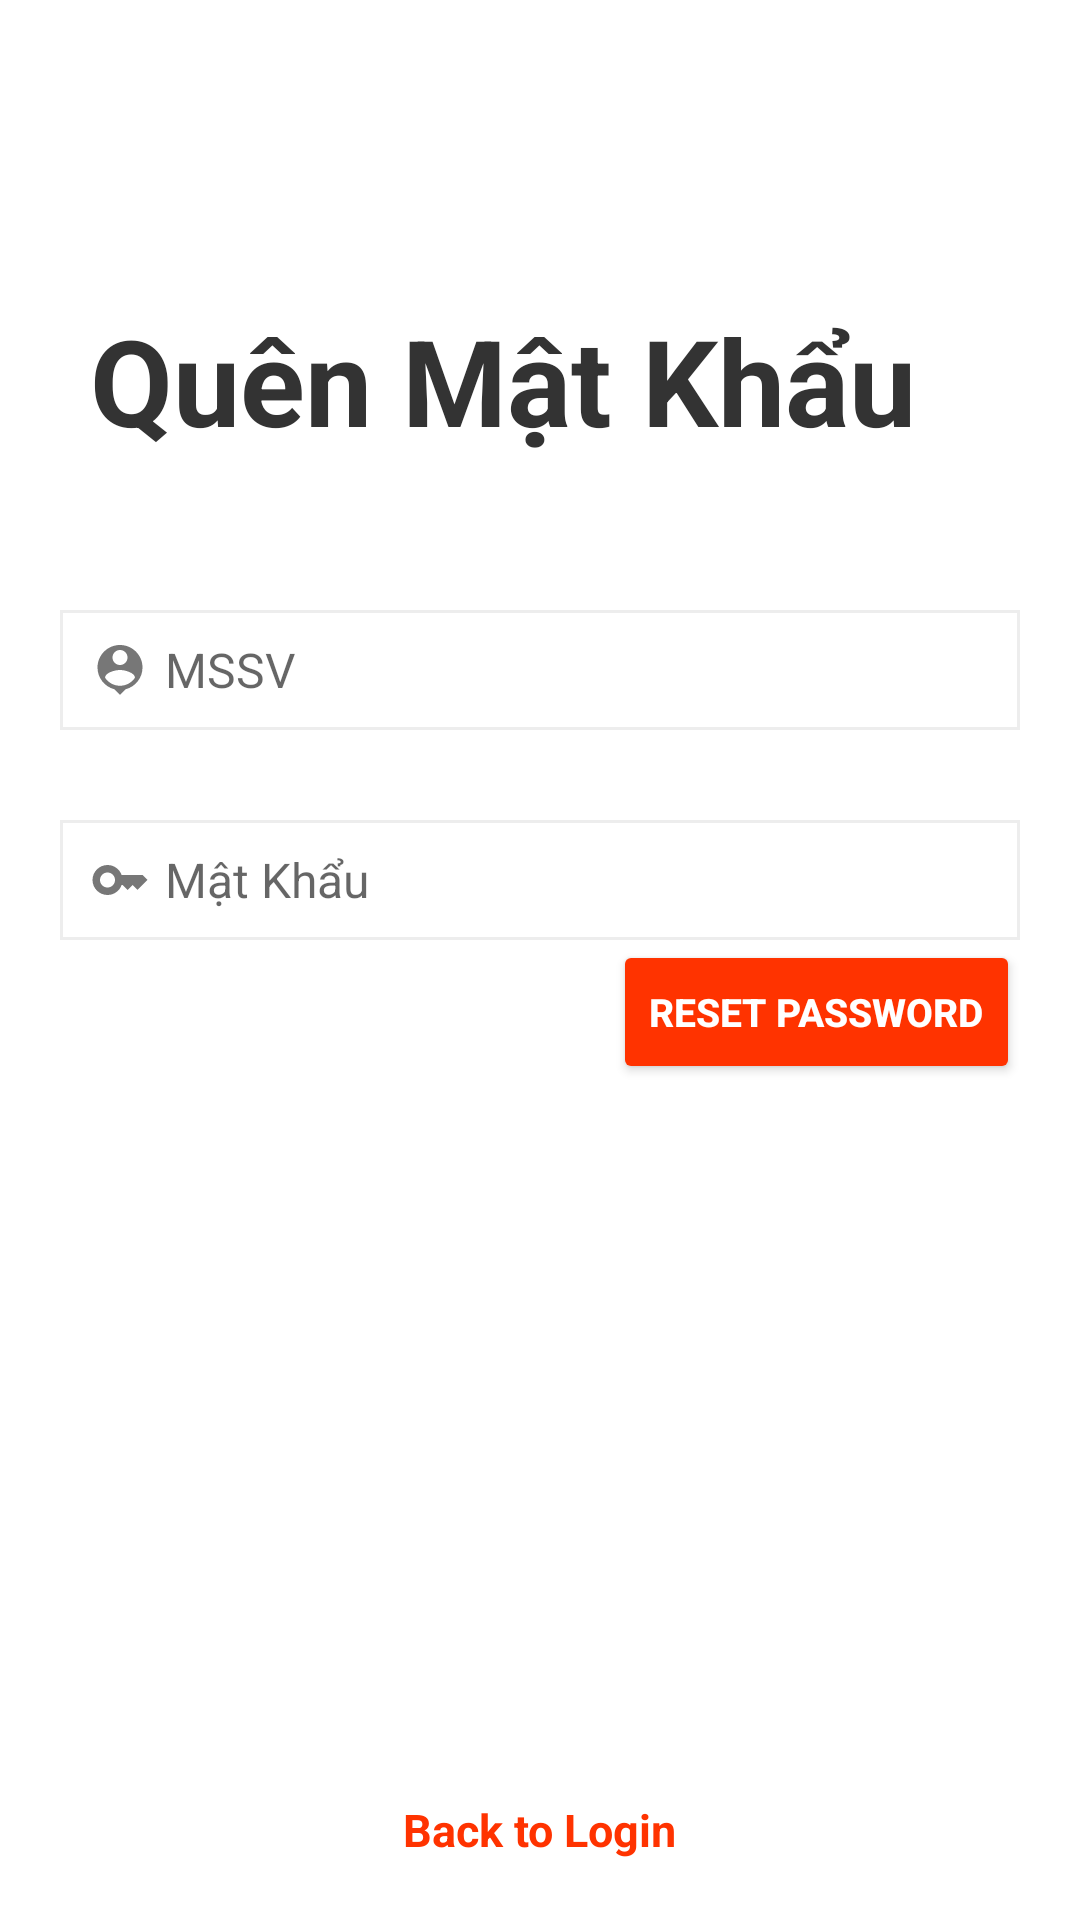

Icons on this 1080 x 1920 Android screen, each with its box as (x1, y1, x2, y2):
key: (92, 865, 148, 895)
person pin: (97, 645, 143, 695)
